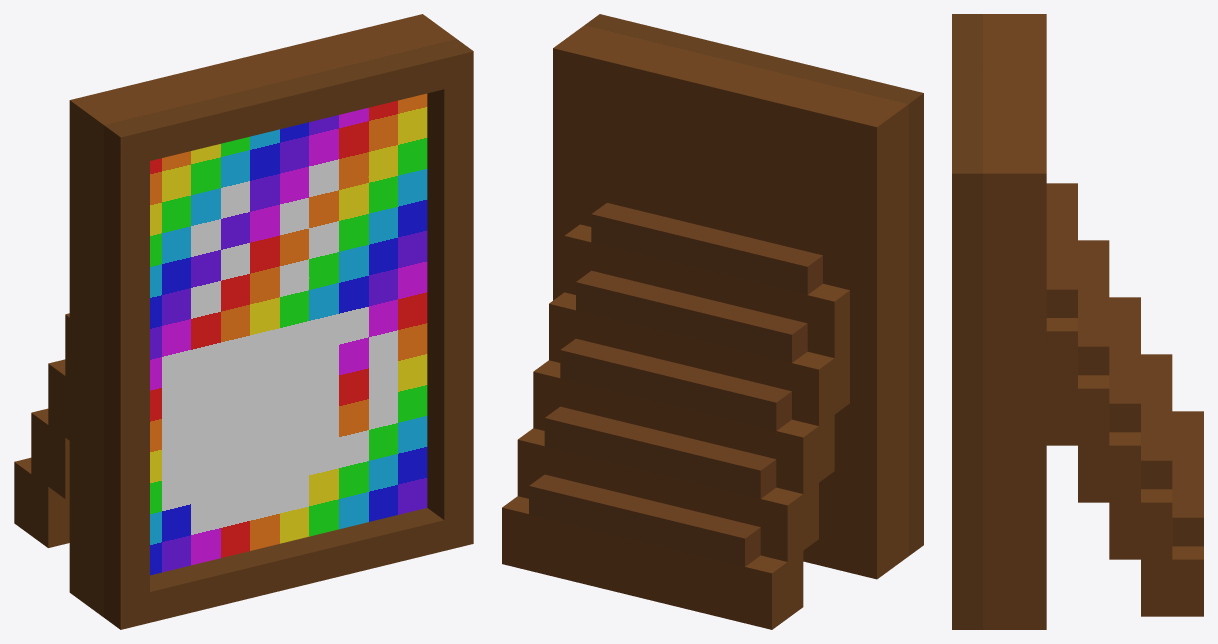
Rendered from Table Picture.fbx.
The picture shows the model from 3 angles, left to right: view 1: azimuth 30°, elevation 25°; view 2: azimuth 150°, elevation 25°; view 3: azimuth 270°, elevation 25°; orthographic projection. The views are drawn at different scales.
Parts seen in each view (by area): view 1: Polygon; view 2: Polygon; view 3: Polygon.
Part boxes in pixels (left/top/right/bottom): Polygon: left=14, top=14, right=473, bottom=629; Polygon: left=502, top=14, right=923, bottom=629; Polygon: left=952, top=14, right=1203, bottom=629.
Size of the model in its own units: 1.2 by 1.6 by 0.8.
